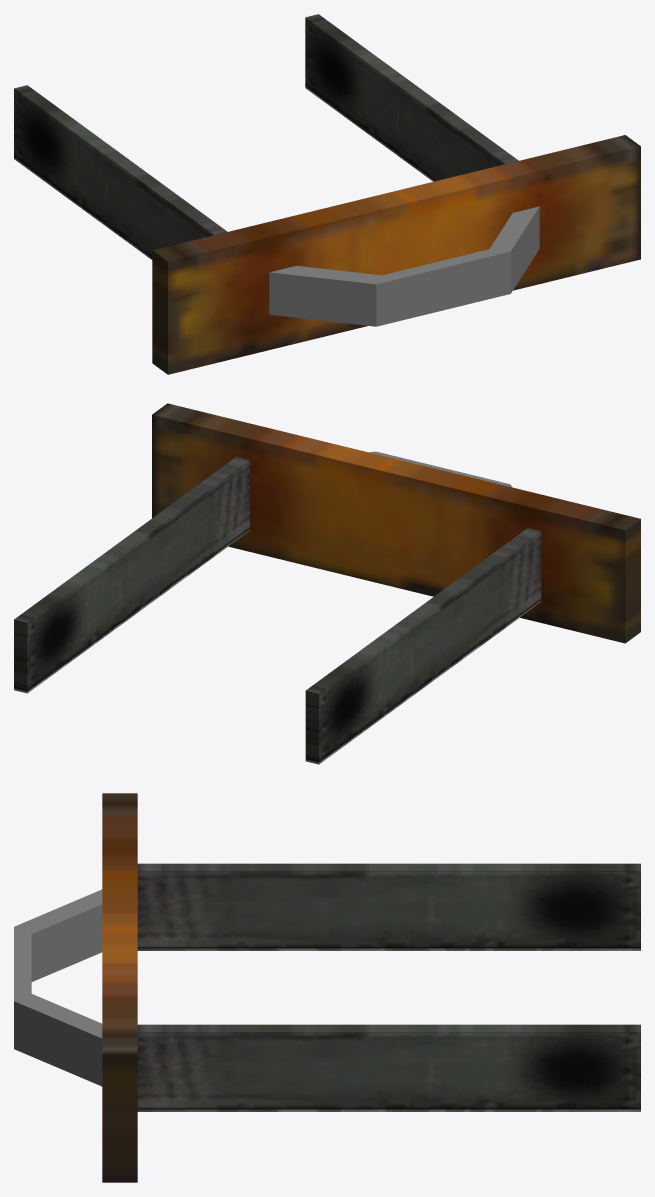
Rendered from Switch-Rod.fbx.
The picture shows the model from 3 angles, top to bottom: view 1: azimuth 30°, elevation 25°; view 2: azimuth 150°, elevation 25°; view 3: azimuth 270°, elevation 25°; orthographic projection. The views are drawn at different scales.
Visible parts, largest first — view 1: node_id10 (×3), node_id7; view 2: node_id10 (×3); view 3: node_id10 (×3), node_id7.
Part boxes in pixels (x1,y1,x2,y2): node_id10 (×3): (14, 14, 640, 374); node_id7: (269, 206, 539, 326); node_id10 (×3): (14, 403, 640, 764); node_id10 (×3): (102, 793, 640, 1182); node_id7: (14, 889, 102, 1086).
Bounding box in the file's own units: 0.512 × 0.117 × 0.5191.
5 materials, 3 textured.
